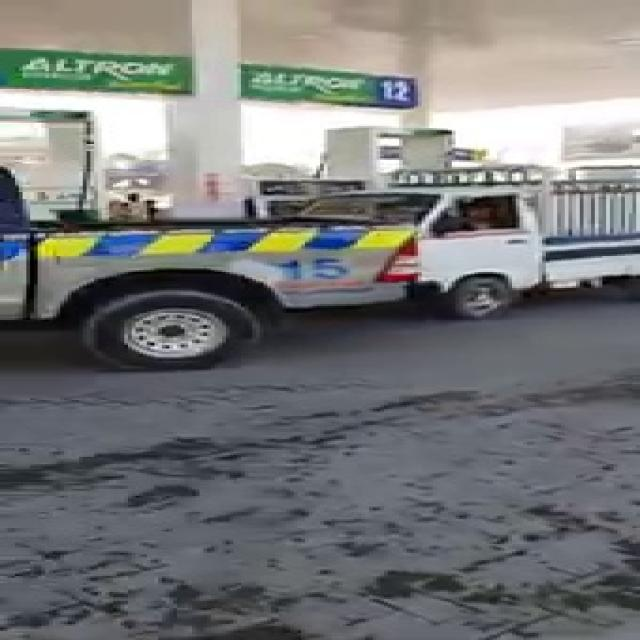police: (0, 164, 444, 358)
